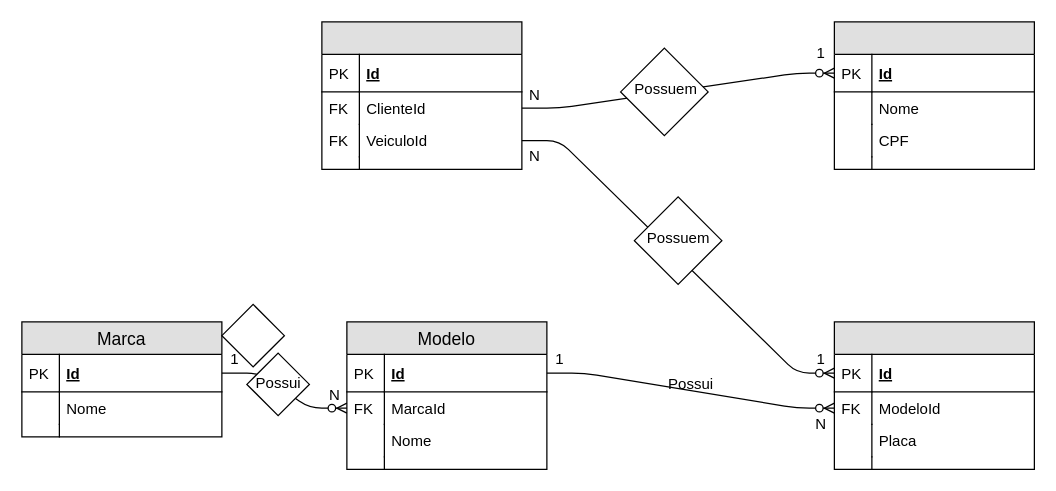
The diagram is 1056 pixels wide and 491 high, and some of its shapes have lost their labels. The shapes that lost their labels are listed below. From the top down, each one's box as (x1, y1, x2, y2) in pixels, then its label:
(321, 21, 522, 169): AluguelCarro
(833, 21, 1034, 169): Cliente
(833, 321, 1034, 469): Veiculo
